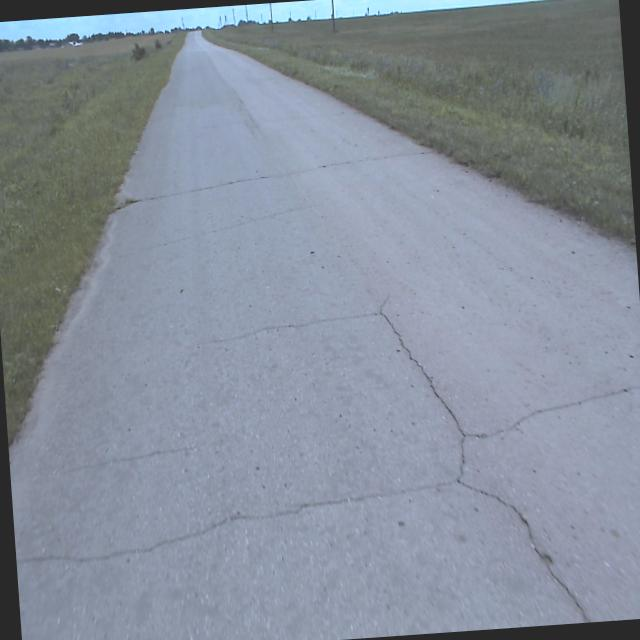road: (8, 30, 640, 640)
